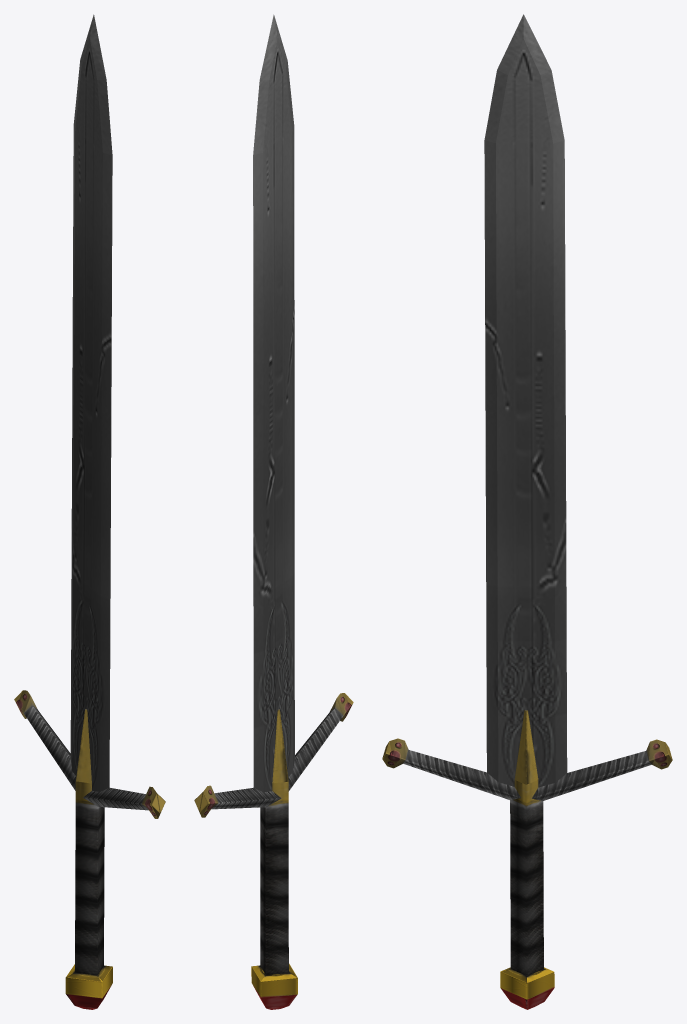
The model's file is sword4.FBX.
The picture shows the model from 3 angles, left to right: view 1: azimuth 30°, elevation 25°; view 2: azimuth 150°, elevation 25°; view 3: azimuth 270°, elevation 25°; orthographic projection.
Visible parts, largest first — view 1: tireRack; view 2: tireRack; view 3: tireRack.
Part boxes in pixels (<box>): tireRack: <box>14,14,165,1009</box>; tireRack: <box>194,14,353,1009</box>; tireRack: <box>382,14,672,1009</box>.
Bounding box in the file's own units: 11.33 × 60.64 × 229.
